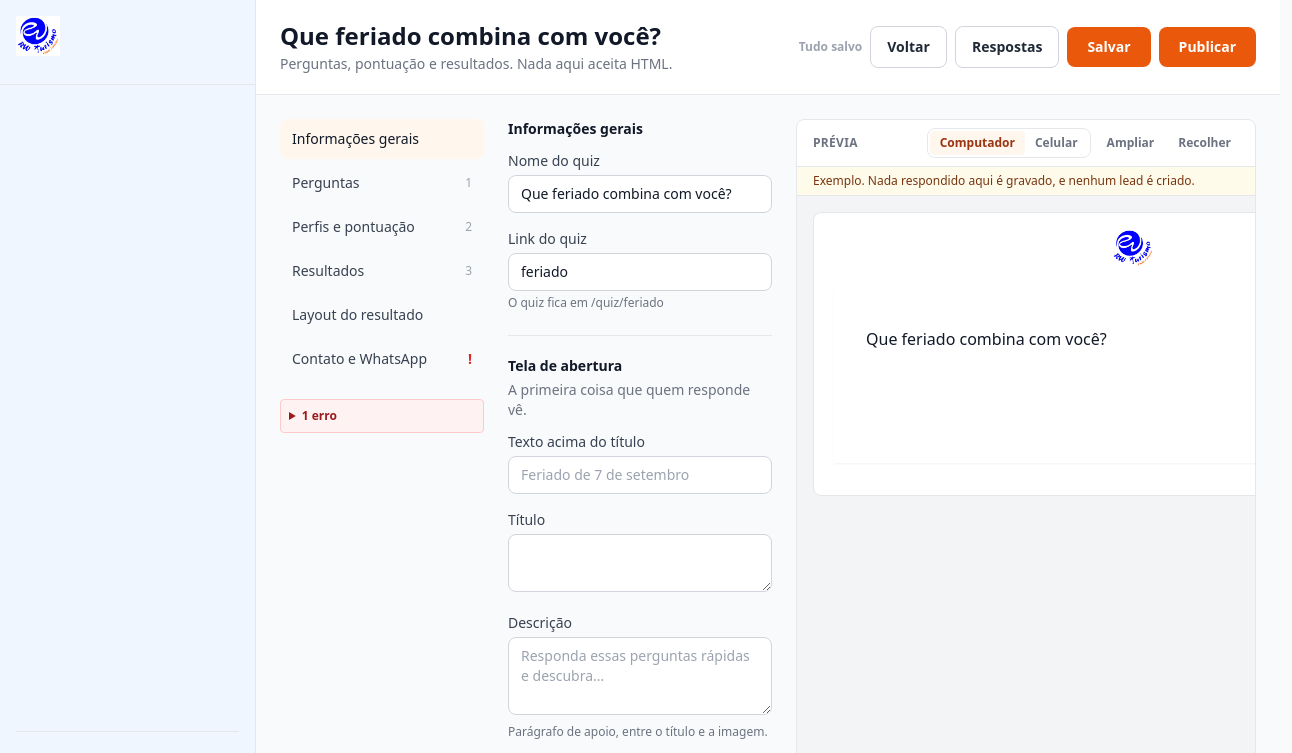
Test: erros e avisos levam ao lugar › clicar num erro troca para a seção dele
The image size is (1292, 753).
Expected: the button "Informações gerais" is shown, [280,119,484,159]
Click the heading "1 erro". click: click(319, 416)
box: [302,407,337,424]
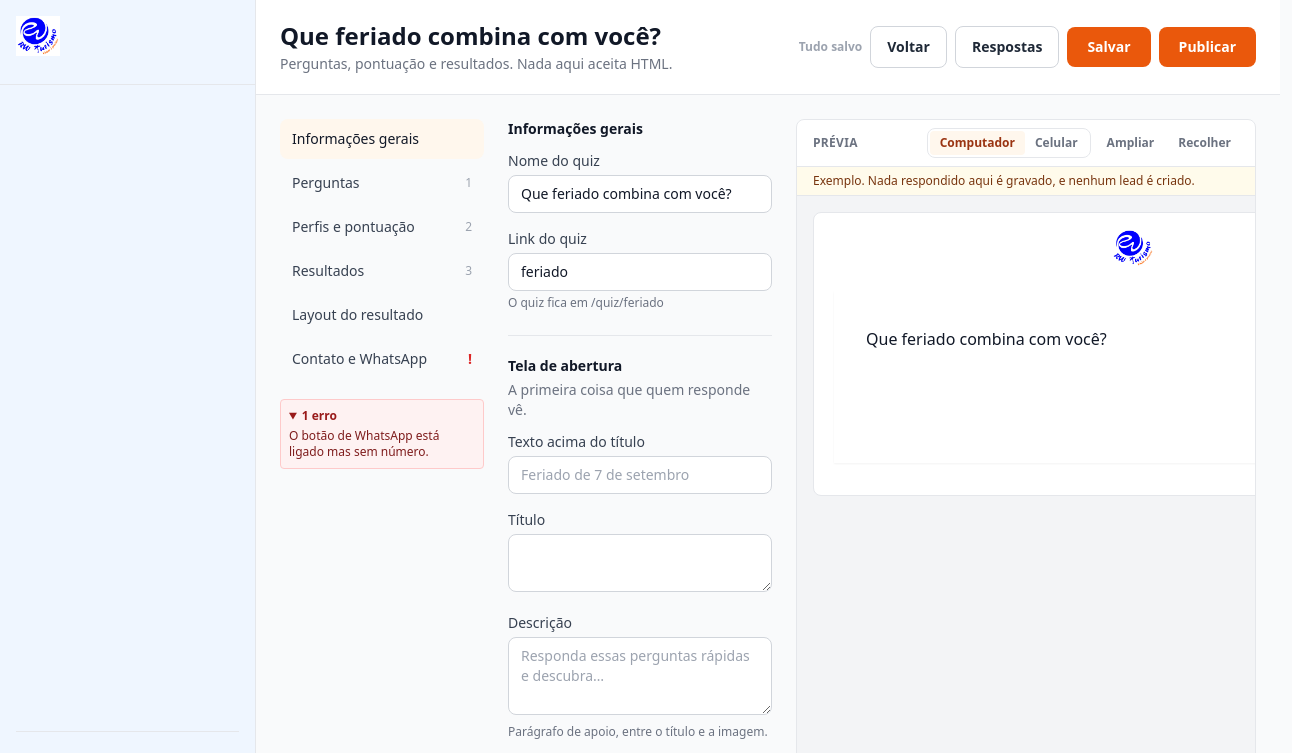
Click the button "O botão de WhatsApp está ligado mas sem número.". click: click(382, 444)
box: [289,428,475,460]
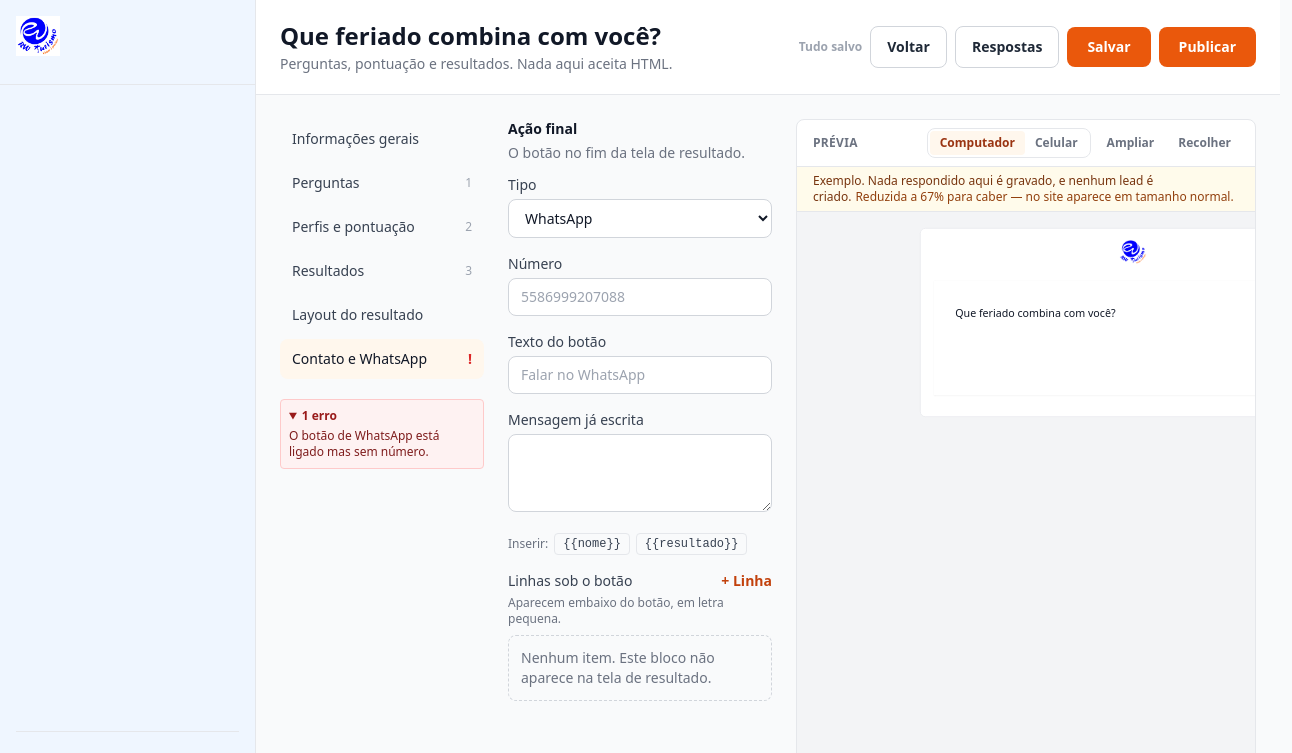
Now the heading "Ação final" is shown, box [508,119,577,139]
